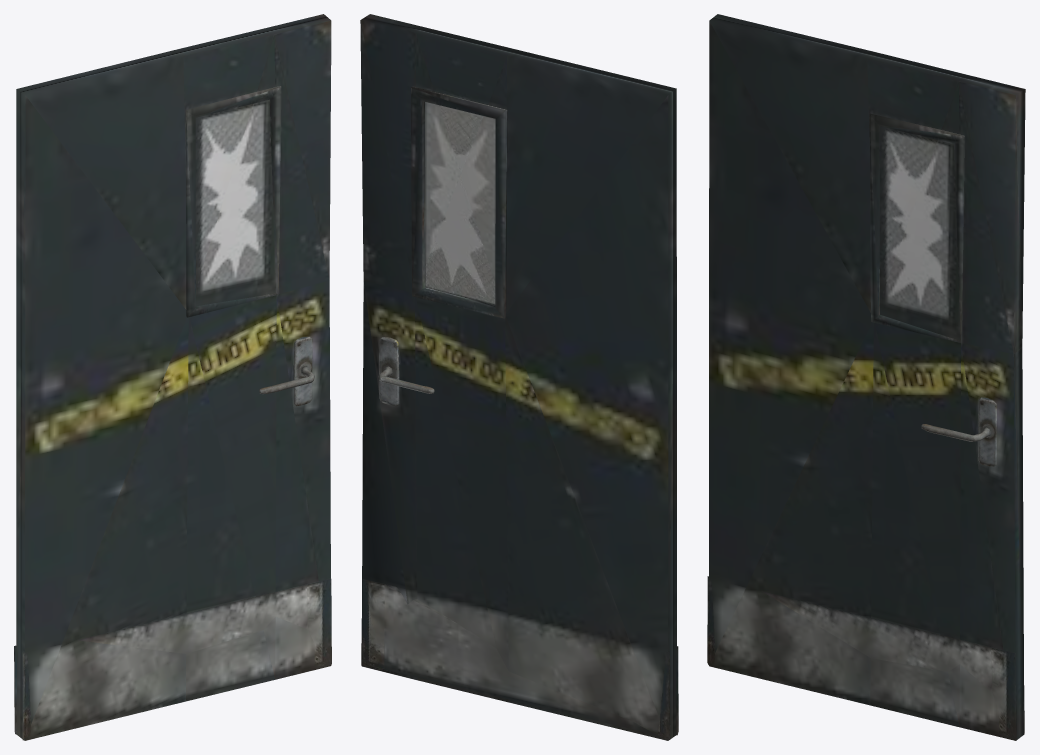
The model's file is door_b.glb.
The picture shows the model from 3 angles, left to right: view 1: azimuth 30°, elevation 25°; view 2: azimuth 150°, elevation 25°; view 3: azimuth 330°, elevation 25°; orthographic projection.
Size of the model in its own units: 0.5016 by 1 by 0.0974.
1 material, 1 textured.
